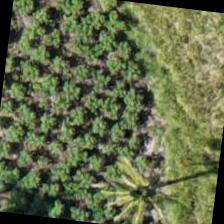Kelapa_Sawit: (88, 138, 189, 223)
